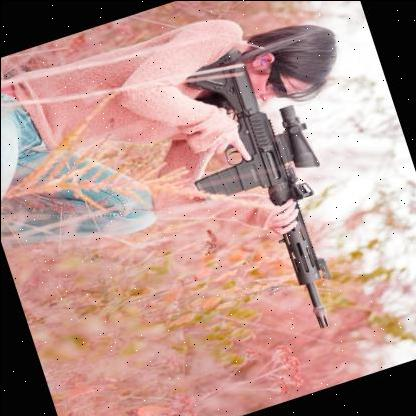rifle: (158, 34, 371, 358)
